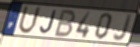0: (93, 12, 113, 41)
4: (74, 10, 91, 40)
B: (52, 9, 77, 38)
J: (112, 13, 134, 43), (39, 9, 58, 34)
U: (16, 5, 42, 36)
